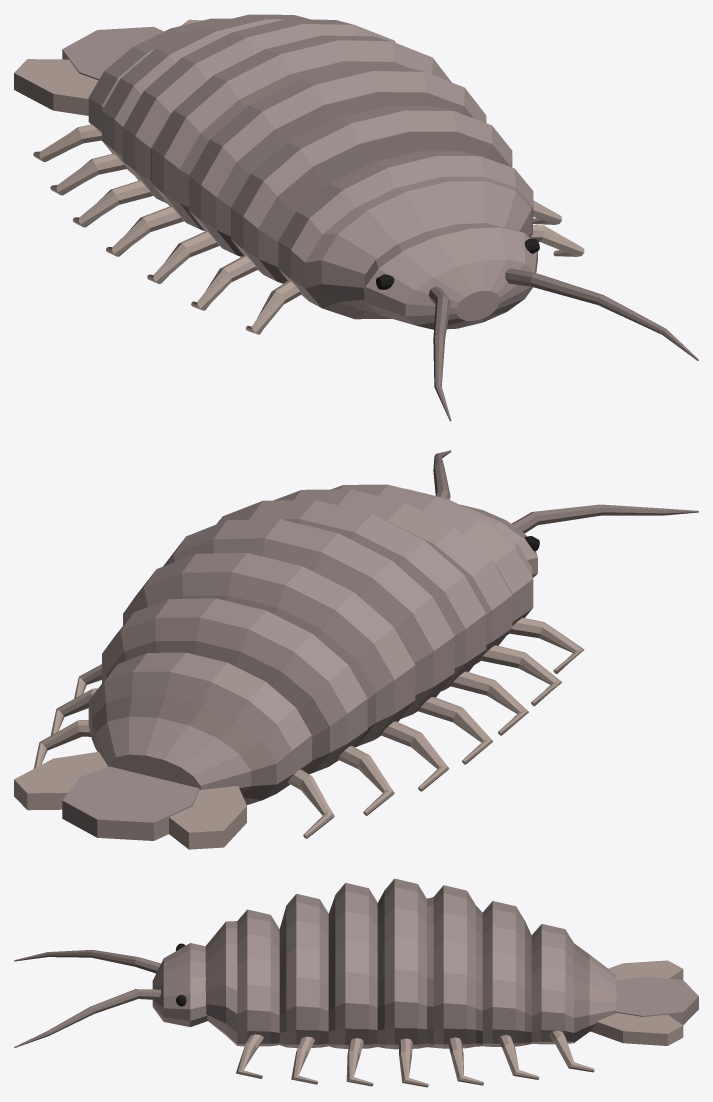
3 views of the same model, one above another, from view 1: azimuth 30°, elevation 25°; view 2: azimuth 150°, elevation 25°; view 3: azimuth 270°, elevation 25° (orthographic). The views are drawn at different scales.
Visible parts, largest first — view 1: WholeDomedOvalSegmentedArmorAndUnderside, WholeCompactRoundedHead, WholeRoundedLateralTailPlate0, WholeBroadCentralTelson, WholeForwardJointedAntenna1, WholeForwardJointedAntenna0, WholeShortBentSideAppendage0_3, WholeShortBentSideAppendage0_4, WholeShortBentSideAppendage0_2, WholeShortBentSideAppendage0_1, WholeShortBentSideAppendage0_5, WholeShortBentSideAppendage0_0 (+2 smaller); view 2: WholeDomedOvalSegmentedArmorAndUnderside, WholeBroadCentralTelson, WholeRoundedLateralTailPlate0, WholeRoundedLateralTailPlate1, WholeForwardJointedAntenna0, WholeShortBentSideAppendage0_3, WholeShortBentSideAppendage0_1, WholeShortBentSideAppendage0_2, WholeShortBentSideAppendage0_4, WholeShortBentSideAppendage0_0, WholeShortBentSideAppendage0_5, WholeShortBentSideAppendage0_6 (+3 smaller); view 3: WholeDomedOvalSegmentedArmorAndUnderside, WholeCompactRoundedHead, WholeBroadCentralTelson, WholeRoundedLateralTailPlate1, WholeForwardJointedAntenna1, WholeForwardJointedAntenna0, WholeRoundedLateralTailPlate0, WholeShortBentSideAppendage1_3, WholeShortBentSideAppendage1_4, WholeShortBentSideAppendage1_2, WholeShortBentSideAppendage1_1, WholeShortBentSideAppendage1_5 (+2 smaller).
Boxes of the visible parts, x1,y1,x2,y2 form: WholeDomedOvalSegmentedArmorAndUnderside: (88,14,533,319); WholeCompactRoundedHead: (364,223,537,329); WholeRoundedLateralTailPlate0: (14,59,98,115); WholeBroadCentralTelson: (62,26,163,80); WholeForwardJointedAntenna1: (505,268,698,360); WholeForwardJointedAntenna0: (428,286,451,421); WholeShortBentSideAppendage0_3: (106,206,183,256); WholeShortBentSideAppendage0_4: (72,180,152,227); WholeShortBentSideAppendage0_2: (147,231,218,283); WholeShortBentSideAppendage0_1: (191,255,257,310); WholeShortBentSideAppendage0_5: (50,153,127,195); WholeShortBentSideAppendage0_0: (245,280,301,334); WholeDomedOvalSegmentedArmorAndUnderside: (88,484,533,804); WholeBroadCentralTelson: (62,766,199,840); WholeRoundedLateralTailPlate0: (169,786,246,849); WholeRoundedLateralTailPlate1: (14,751,108,810); WholeForwardJointedAntenna0: (511,504,698,533); WholeShortBentSideAppendage0_3: (418,697,492,764); WholeShortBentSideAppendage0_1: (480,645,561,706); WholeShortBentSideAppendage0_2: (451,671,528,735); WholeShortBentSideAppendage0_4: (381,721,449,791); WholeShortBentSideAppendage0_0: (508,618,584,673); WholeShortBentSideAppendage0_5: (337,746,394,815); WholeShortBentSideAppendage0_6: (287,769,334,838); WholeDomedOvalSegmentedArmorAndUnderside: (205,878,616,1049); WholeCompactRoundedHead: (152,943,207,1027); WholeBroadCentralTelson: (616,976,698,1025); WholeRoundedLateralTailPlate1: (590,1013,683,1045); WholeForwardJointedAntenna1: (14,989,161,1047); WholeForwardJointedAntenna0: (14,949,160,973); WholeRoundedLateralTailPlate0: (608,960,683,980); WholeShortBentSideAppendage1_3: (398,1038,428,1087); WholeShortBentSideAppendage1_4: (447,1037,483,1085); WholeShortBentSideAppendage1_2: (346,1038,373,1086); WholeShortBentSideAppendage1_1: (291,1036,317,1084); WholeShortBentSideAppendage1_5: (498,1035,539,1079).
Bounding box in the file's own units: 1.41 × 0.66 × 3.07.
